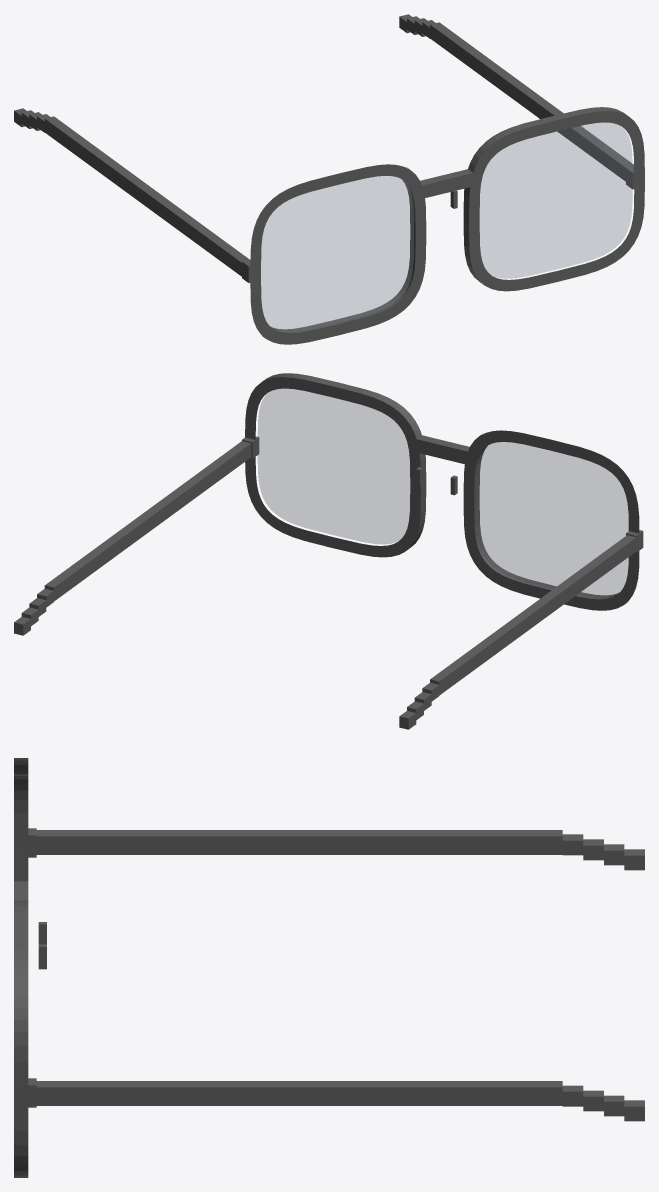
File: p-oversize.glb
3 renders of one model, top to bottom at view 1: azimuth 30°, elevation 25°; view 2: azimuth 150°, elevation 25°; view 3: azimuth 270°, elevation 25°, orthographic. The views are drawn at different scales.
Parts seen in each view (by area): view 1: Lens, Frame; view 2: Lens, Frame; view 3: Frame.
Part boxes in pixels (bbox=[...]): Lens: bbox=[261, 122, 632, 331]; Frame: bbox=[14, 14, 644, 344]; Lens: bbox=[258, 389, 628, 597]; Frame: bbox=[14, 373, 643, 729]; Frame: bbox=[14, 758, 644, 1177].
Size of the model in its own units: 148 by 58 by 154.
